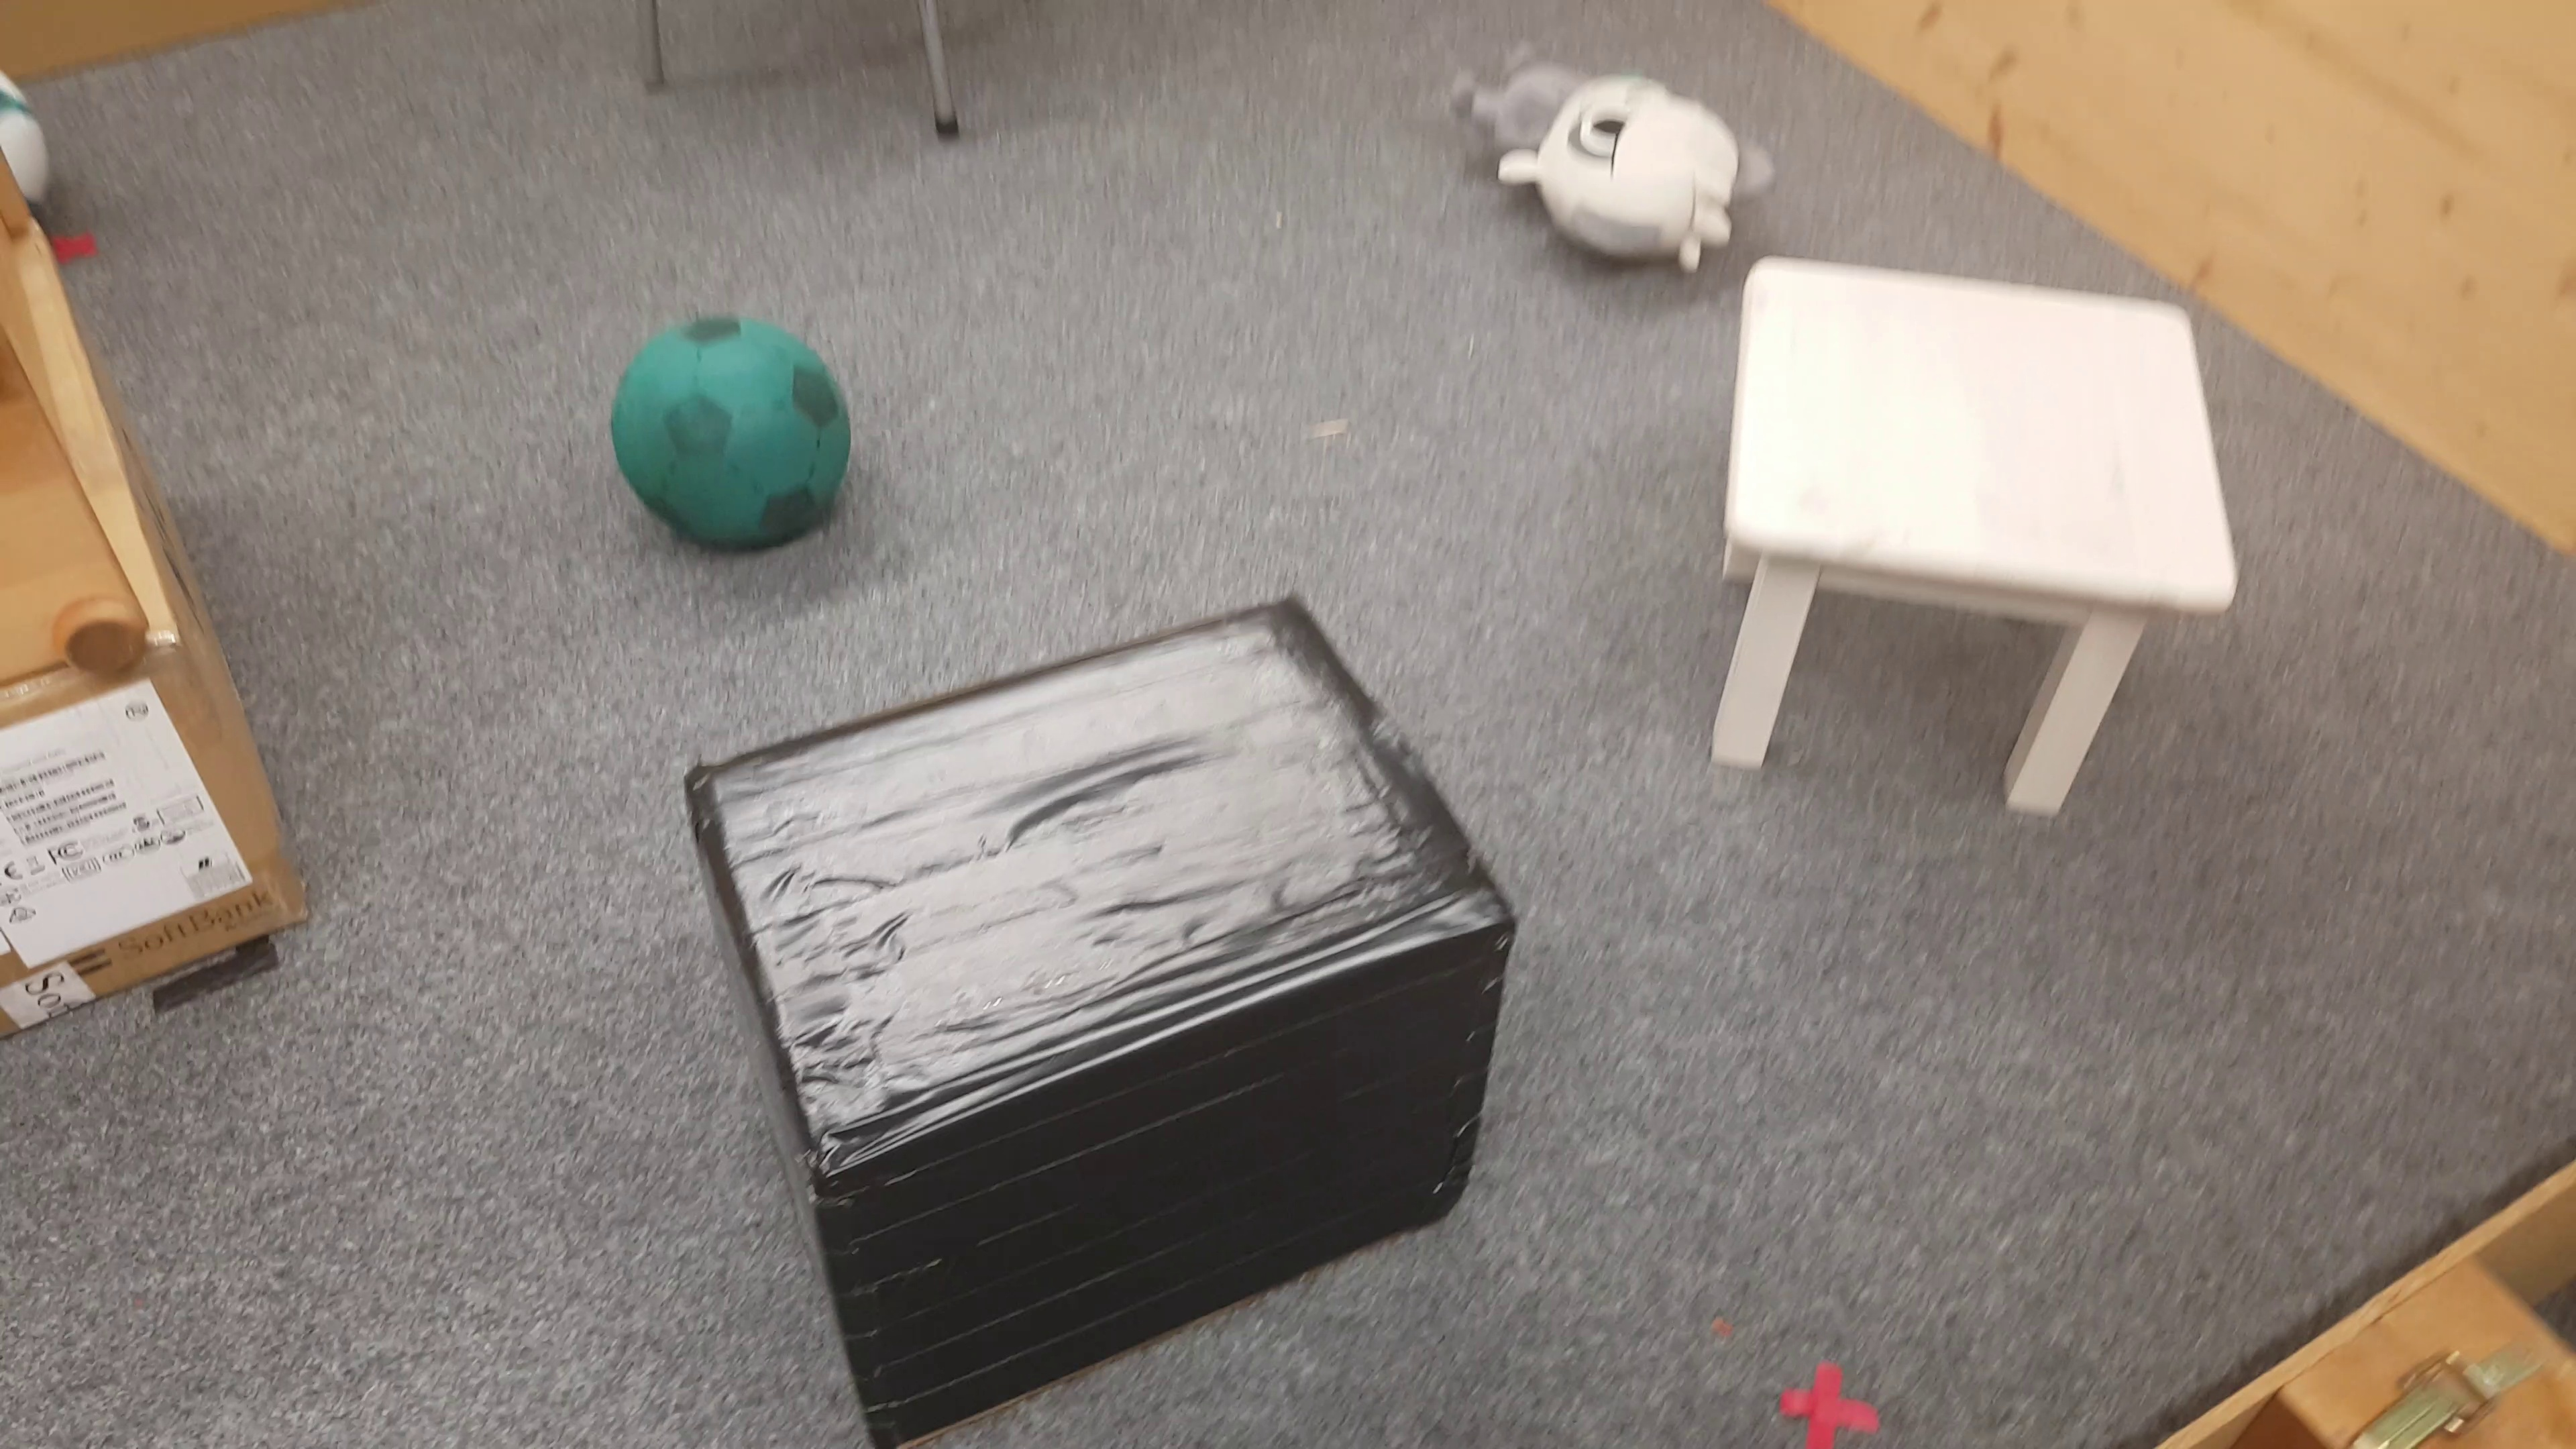grasp: (1454, 25, 1766, 267)
kick: (612, 322, 853, 548)
push: (690, 594, 1514, 1440)
